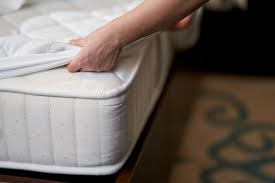bed-matress: (1, 1, 175, 177)
